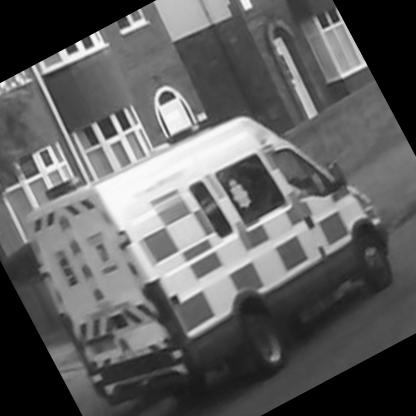ambulance: (1, 45, 416, 416)
